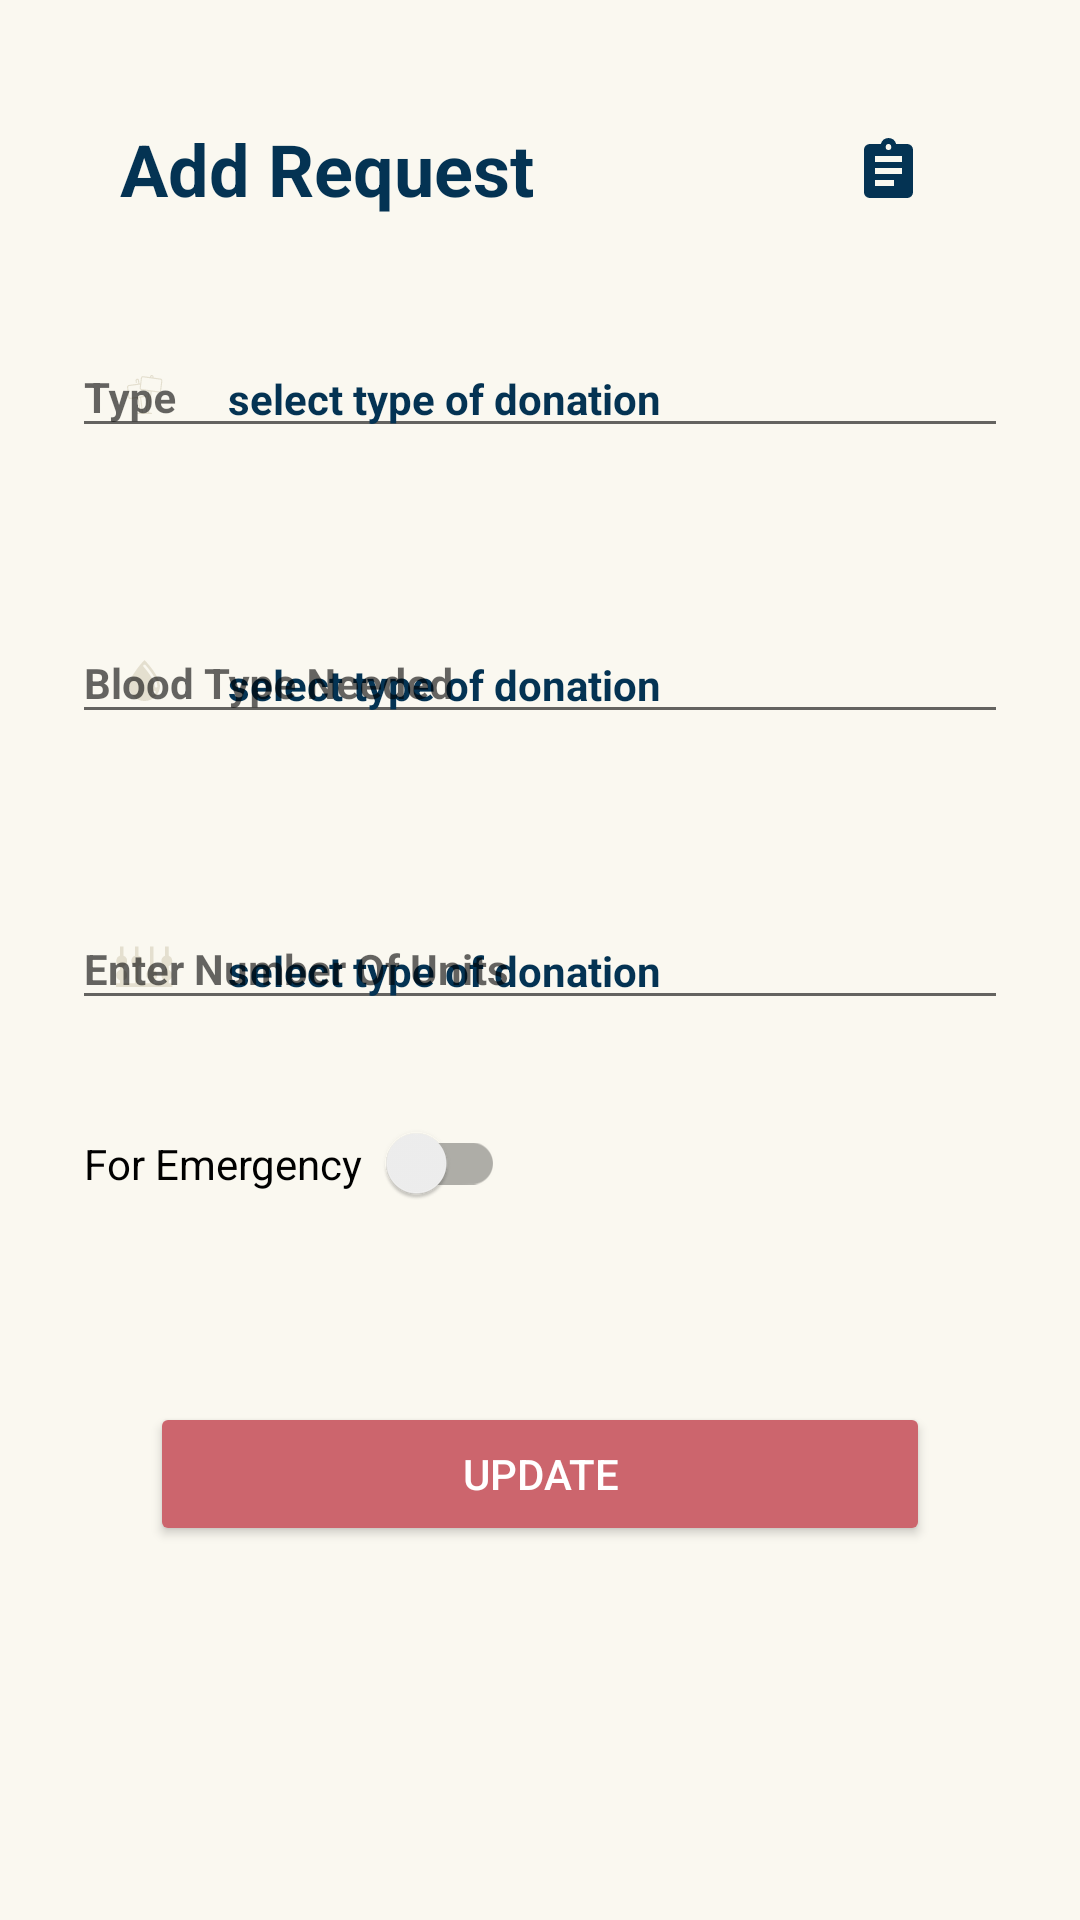

Point at icon controls on the screen. Image size 1080×1920, points as point (x, y).
record: point (888, 168)
